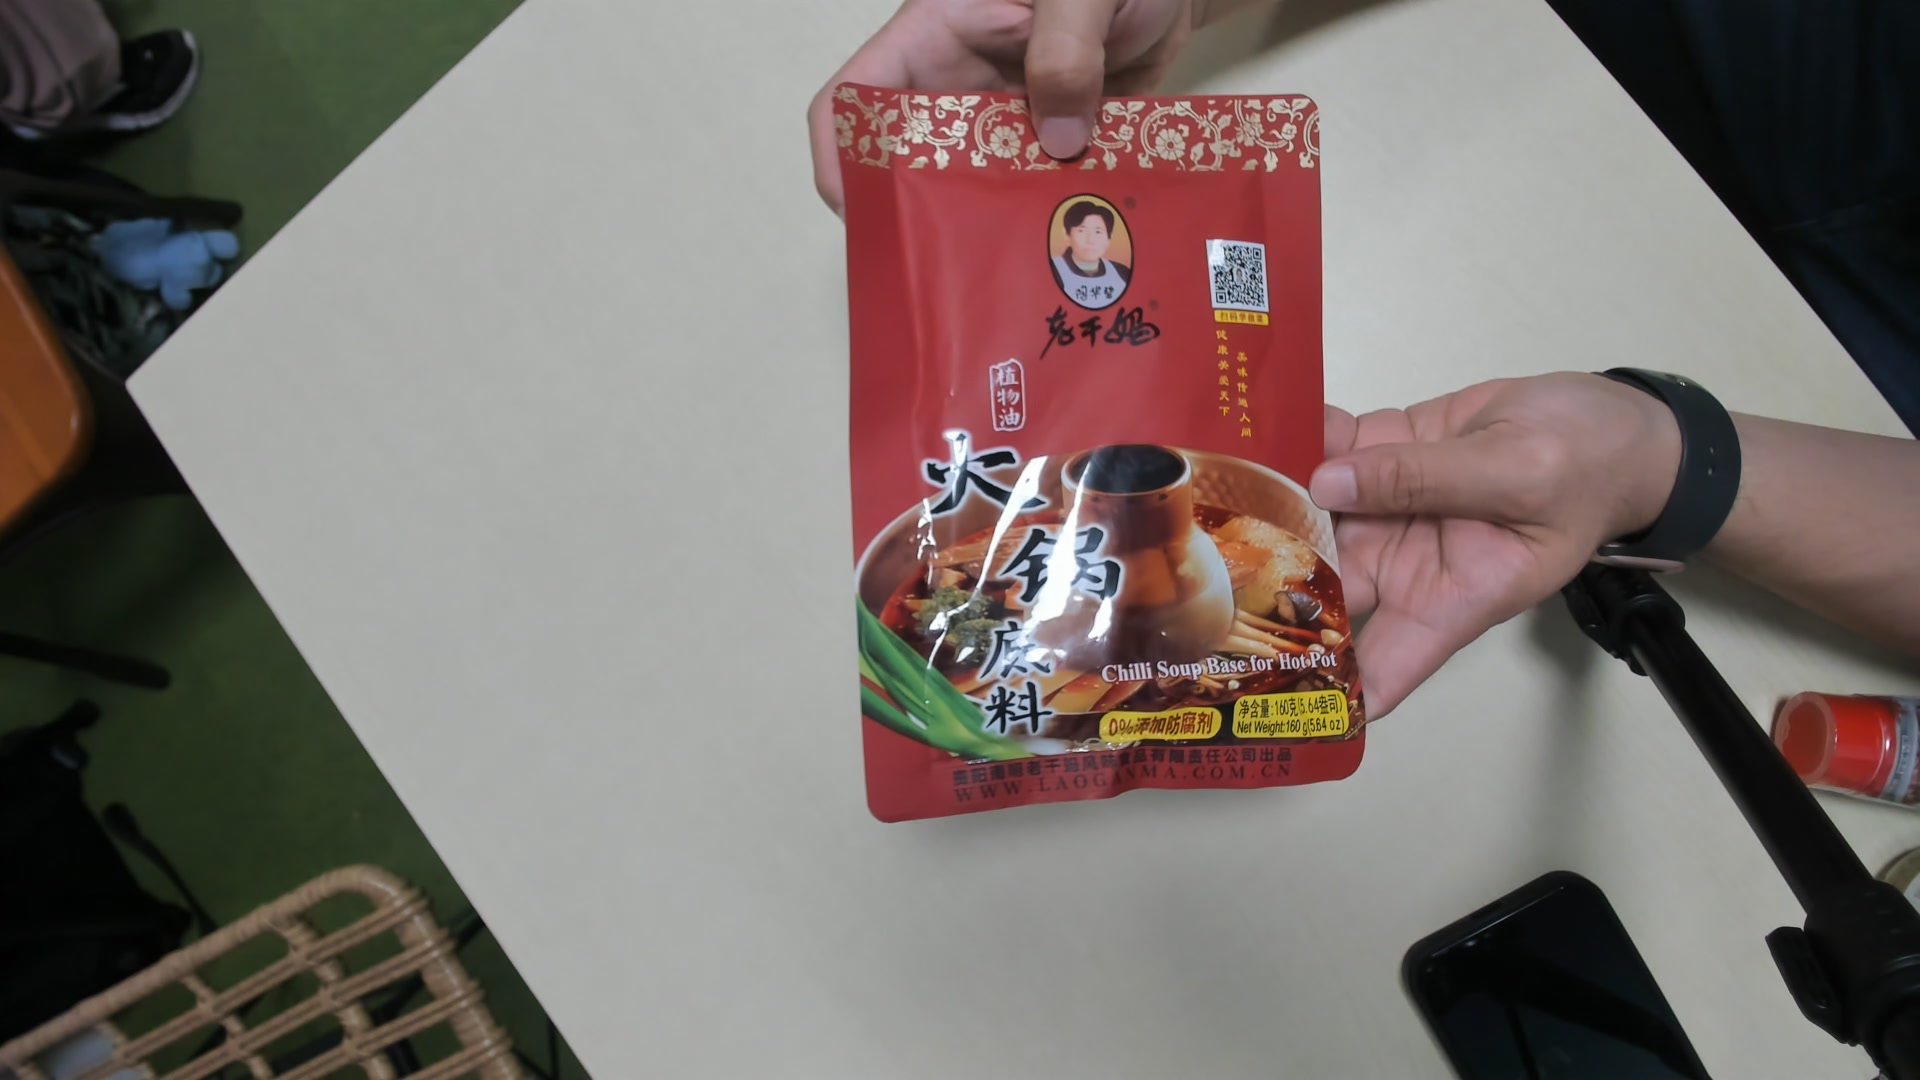OtherSauceDressing_100-199g_NonHalal_NonHealthy: (837, 76, 1364, 804)
